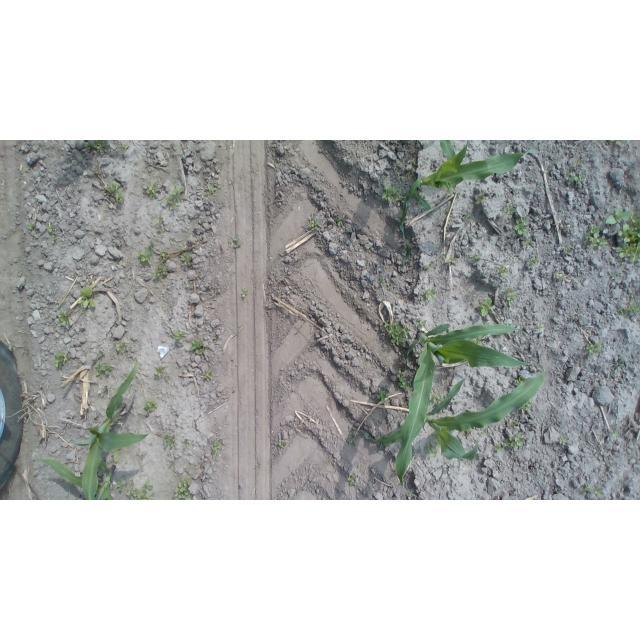Maize: (357, 364, 546, 501), (394, 321, 530, 500), (398, 140, 543, 268), (73, 360, 151, 500), (31, 456, 117, 500)
Weeds: (606, 205, 640, 264), (384, 319, 413, 345), (127, 478, 157, 500), (585, 223, 609, 250), (494, 432, 524, 452), (164, 186, 185, 211), (103, 180, 125, 202), (174, 476, 193, 500), (78, 284, 96, 309), (381, 185, 405, 203), (84, 140, 109, 156), (477, 296, 496, 317), (395, 369, 411, 392), (619, 298, 640, 315), (53, 351, 71, 370), (515, 215, 530, 237), (188, 339, 208, 355), (143, 182, 160, 200), (204, 178, 222, 195), (96, 361, 113, 378), (565, 170, 585, 184), (504, 287, 519, 305), (137, 249, 153, 265), (151, 264, 167, 280), (424, 443, 439, 459), (586, 340, 603, 354), (152, 366, 169, 380), (144, 397, 159, 411), (163, 435, 178, 449), (58, 311, 72, 326), (378, 390, 391, 406), (180, 252, 193, 267), (211, 440, 223, 456), (171, 330, 188, 341), (112, 449, 125, 463), (423, 288, 436, 301), (428, 395, 444, 405), (520, 401, 533, 413), (116, 339, 129, 351), (471, 335, 485, 346), (112, 143, 128, 152), (468, 253, 484, 262), (504, 203, 517, 214), (347, 472, 356, 487), (580, 484, 593, 494), (528, 256, 541, 266), (555, 271, 568, 281), (204, 371, 216, 381), (616, 357, 624, 371), (573, 157, 584, 167), (232, 235, 241, 247), (496, 268, 508, 277), (416, 320, 428, 329), (117, 480, 126, 492), (476, 194, 485, 206), (447, 255, 457, 265), (559, 435, 569, 445), (563, 245, 573, 255), (509, 420, 520, 428), (25, 224, 37, 231), (609, 140, 623, 146), (184, 437, 191, 449), (595, 487, 604, 496), (158, 252, 168, 260), (516, 377, 526, 385), (465, 211, 473, 221), (336, 218, 344, 227), (311, 220, 319, 229), (524, 239, 533, 247), (426, 262, 435, 270), (536, 323, 544, 331), (610, 272, 618, 280), (241, 289, 248, 298), (154, 214, 163, 221), (159, 227, 166, 236), (49, 224, 56, 233), (345, 438, 355, 444), (100, 387, 109, 393), (97, 351, 104, 358), (386, 284, 393, 291), (482, 429, 489, 436), (50, 236, 56, 244), (413, 159, 418, 168), (279, 441, 286, 447), (612, 432, 620, 437), (379, 279, 385, 285), (95, 171, 103, 175), (148, 243, 153, 249), (409, 244, 414, 249), (179, 246, 185, 250)
